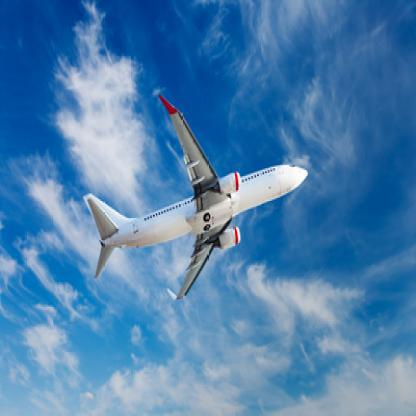CIV_Plane: (80, 91, 312, 307)
